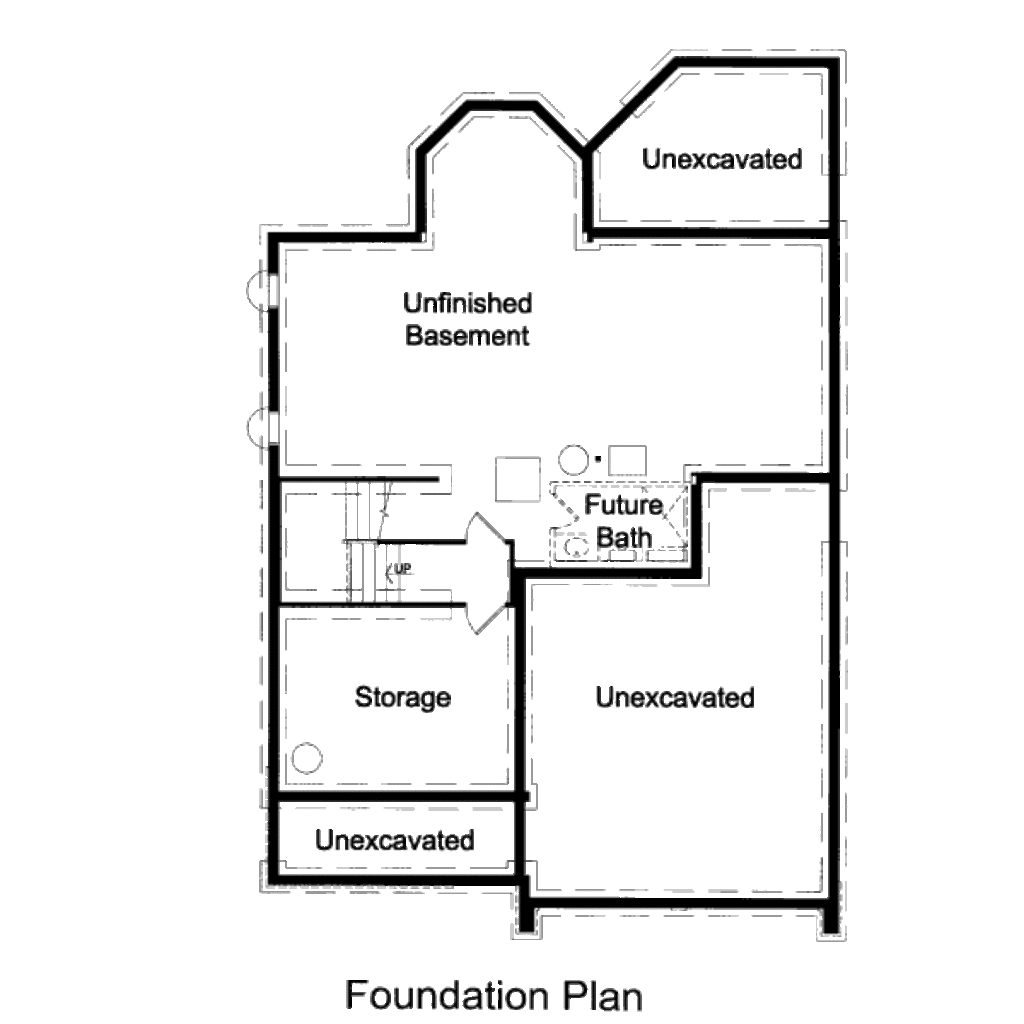door: (455, 508, 522, 550), (461, 597, 517, 639), (550, 491, 588, 533)
small_sink: (548, 533, 600, 566)
stairs: (273, 474, 458, 611)
